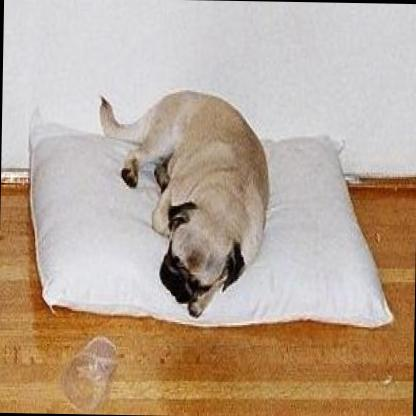pug: (86, 88, 270, 314)
